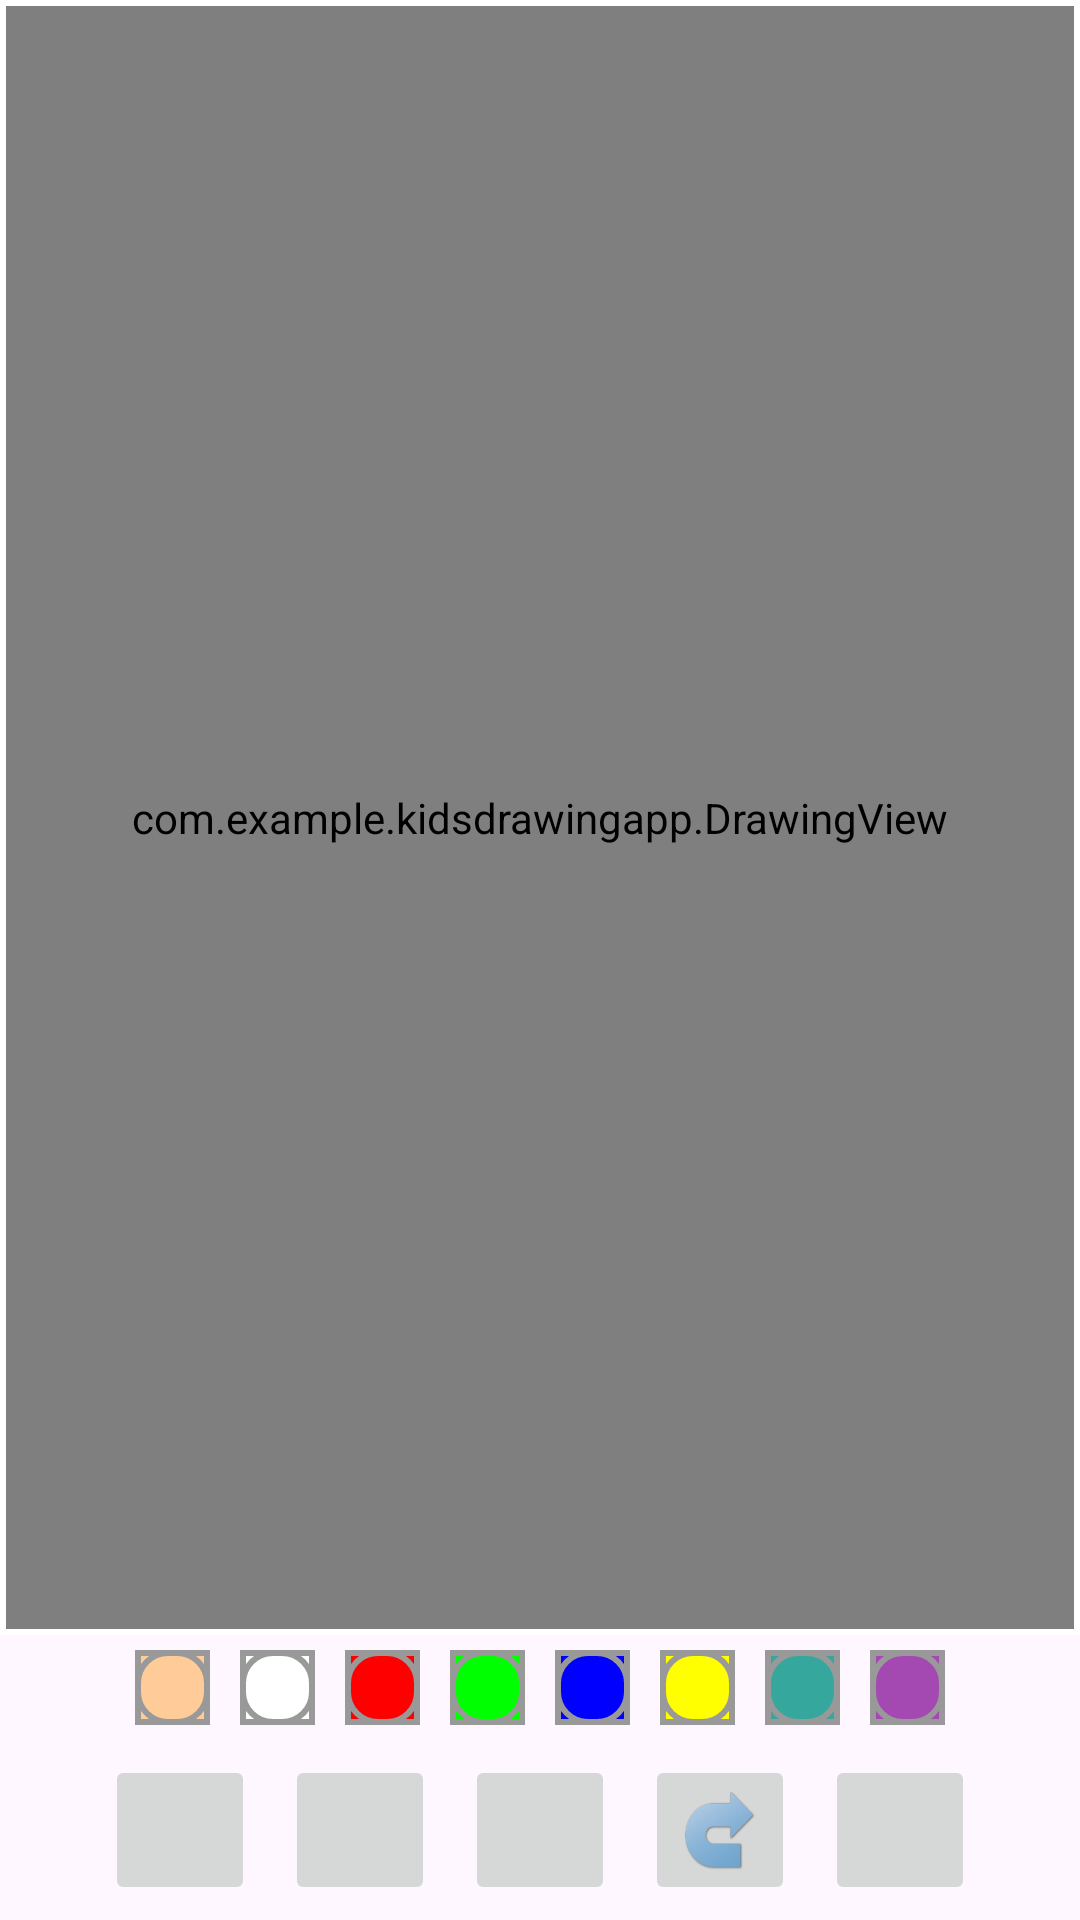

Icons on this 1080w x 1920h Android screen, each with the point to tap as (x=x, y=y):
redo: (x=720, y=1830)
